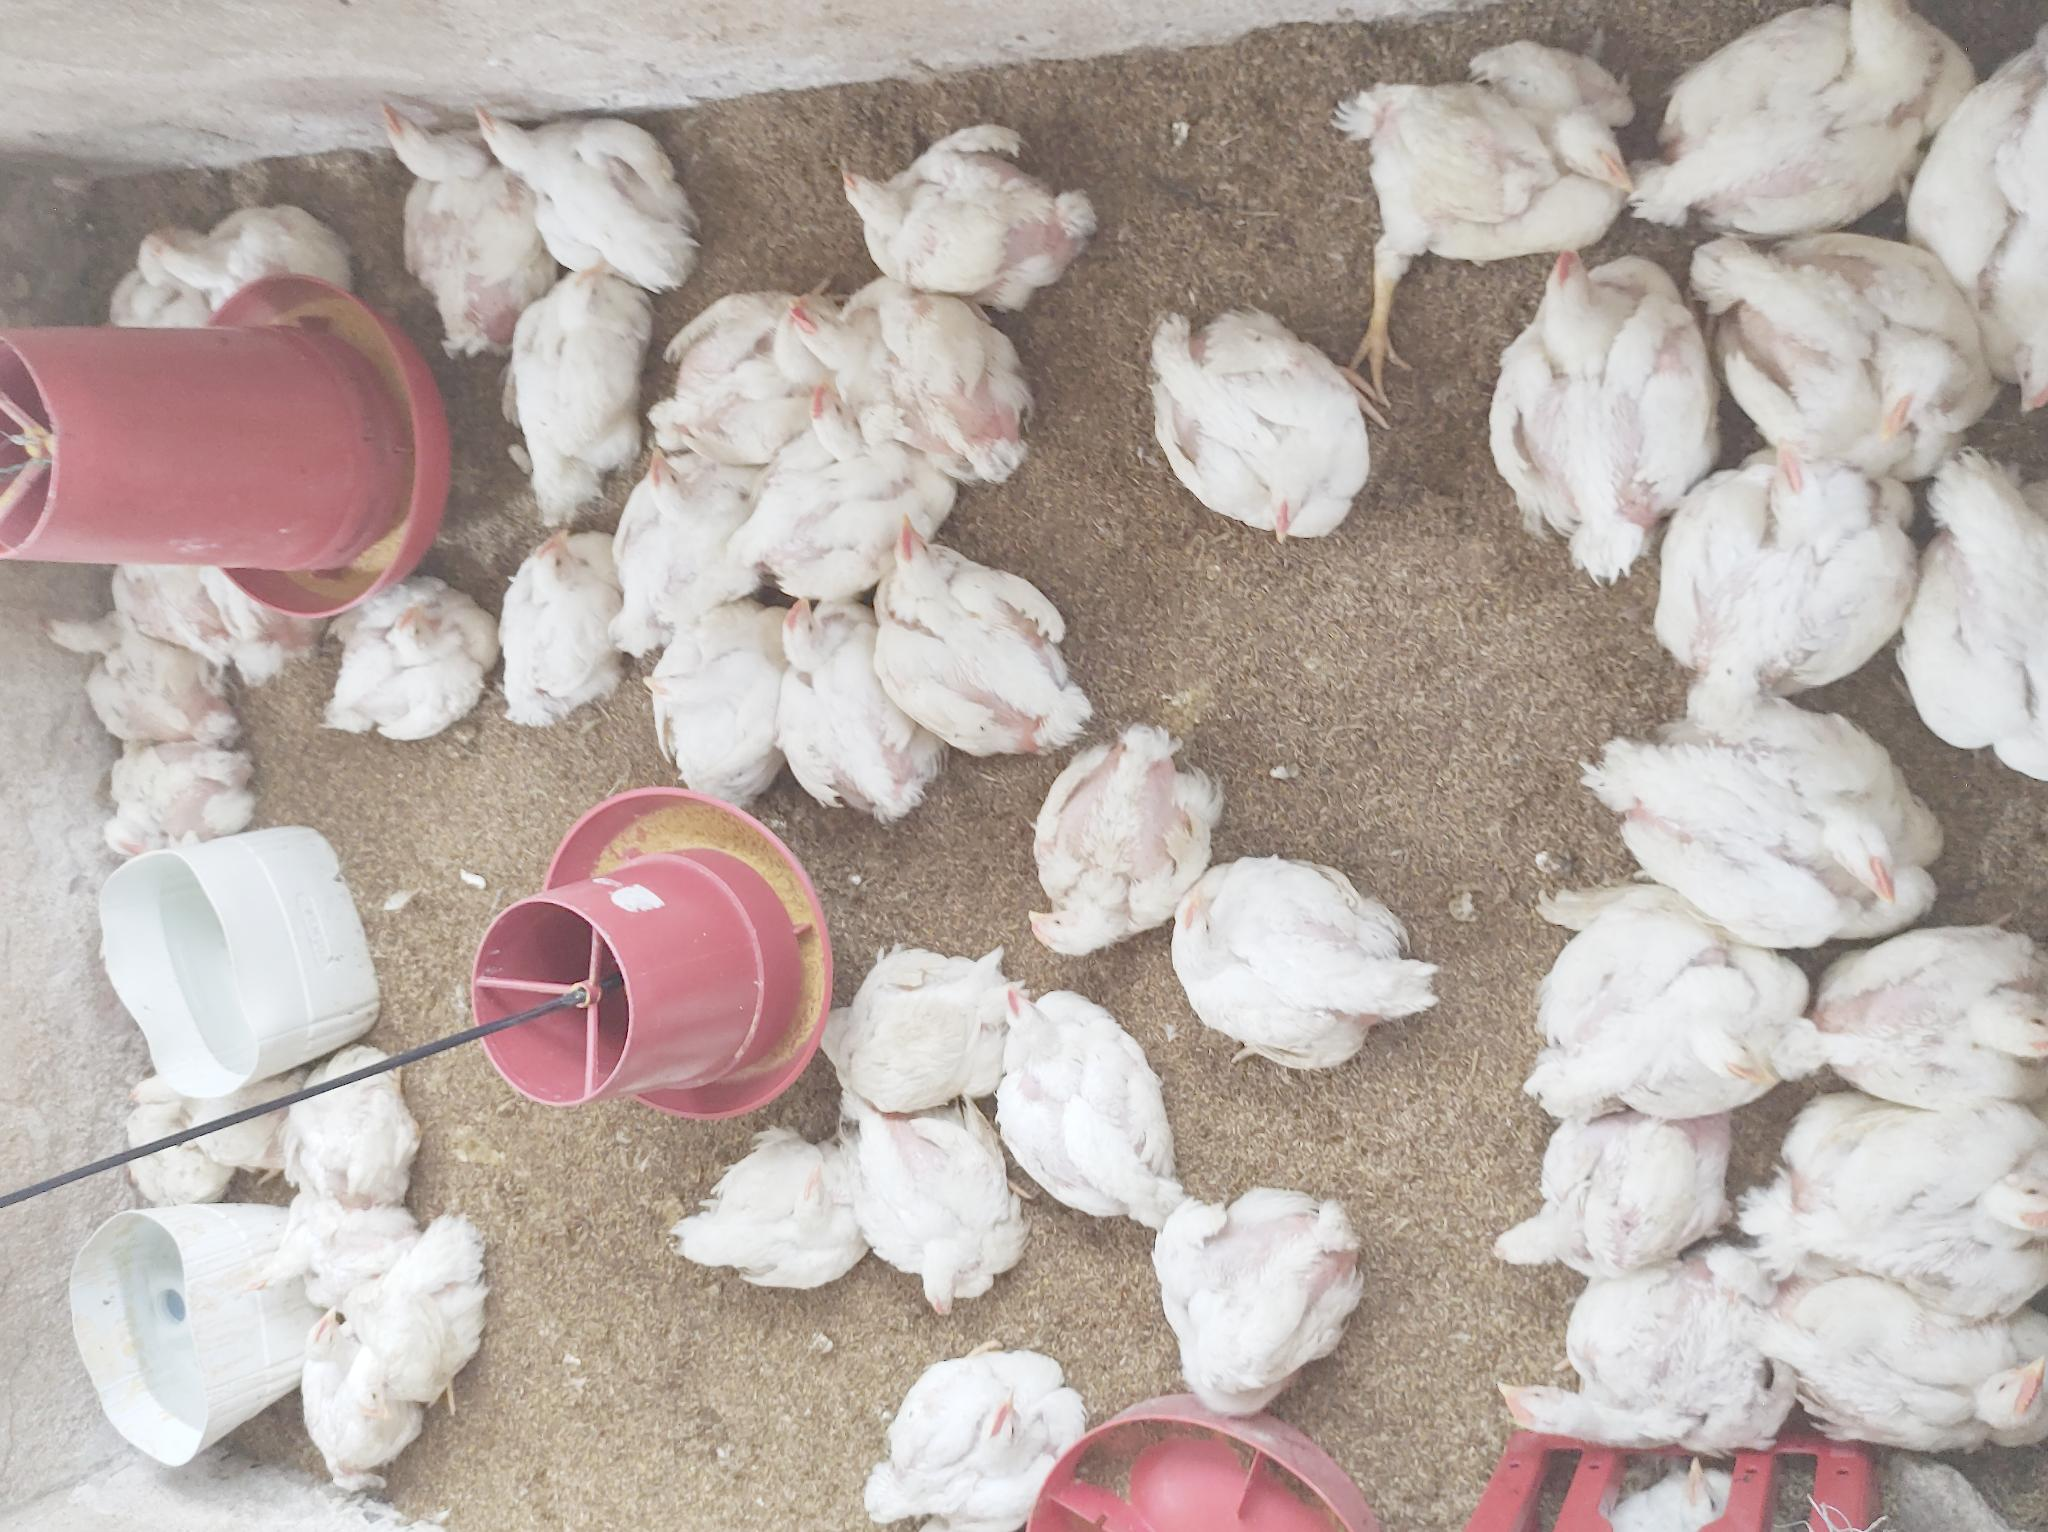Pollos: (1585, 690, 1947, 949), (1636, 0, 1974, 235), (1483, 240, 1726, 566), (1654, 428, 1923, 719), (1689, 232, 1997, 486), (1322, 35, 1646, 269), (1520, 882, 1823, 1131), (1490, 1242, 1803, 1456), (1170, 843, 1446, 1081), (1771, 1080, 2048, 1300), (1910, 8, 2048, 436), (1763, 1263, 2048, 1466), (1147, 303, 1374, 552), (869, 517, 1094, 758), (1155, 1172, 1374, 1418), (730, 364, 956, 591), (1895, 451, 2048, 784), (783, 286, 1036, 486), (376, 93, 560, 357), (991, 980, 1182, 1233), (841, 122, 1099, 309), (467, 101, 706, 294), (1025, 723, 1224, 954), (1810, 927, 2048, 1109), (766, 591, 948, 827), (1480, 1109, 1744, 1271), (846, 1340, 1080, 1514), (857, 1099, 1025, 1324), (639, 605, 803, 822), (521, 261, 656, 521), (825, 938, 1025, 1110), (336, 1207, 489, 1427), (648, 291, 838, 465), (668, 1130, 857, 1302), (317, 573, 499, 739), (605, 444, 758, 636), (31, 608, 245, 743), (496, 529, 631, 727), (290, 1299, 412, 1495), (145, 200, 357, 304), (290, 1048, 428, 1202), (249, 1189, 417, 1316), (93, 734, 253, 858), (113, 1080, 240, 1196), (105, 562, 232, 653), (1602, 1460, 1749, 1529)
